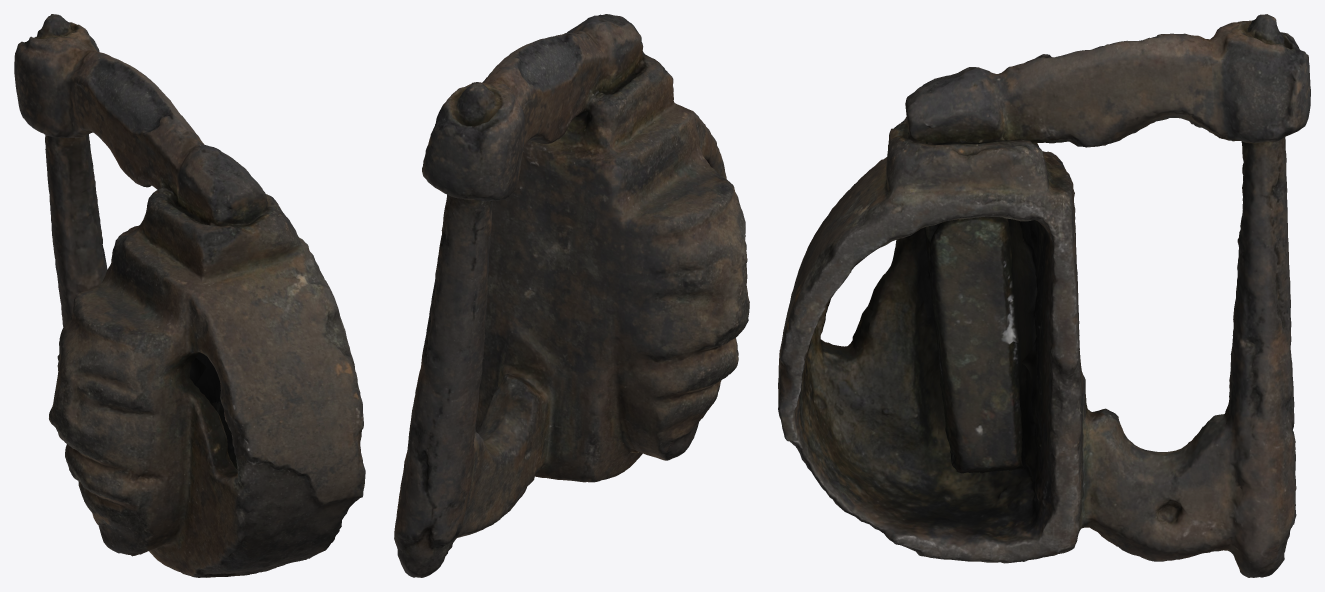
File: Schloss_60kTris_2x2kTex.gltf
The picture shows the model from 3 angles, left to right: view 1: azimuth 30°, elevation 25°; view 2: azimuth 150°, elevation 25°; view 3: azimuth 270°, elevation 25°; orthographic projection. The views are drawn at different scales.
Visible parts, largest first — view 1: Schloss_Model_4:default1; view 2: Schloss_Model_4:default1; view 3: Schloss_Model_4:default1.
Part boxes in pixels (bbox=[...]): Schloss_Model_4:default1: bbox=[14, 14, 365, 577]; Schloss_Model_4:default1: bbox=[394, 14, 749, 577]; Schloss_Model_4:default1: bbox=[778, 14, 1310, 577].
Bounding box in the file's own units: 0.0187 × 0.0398 × 0.0362.
Materials: 2 (2 with a texture image).
